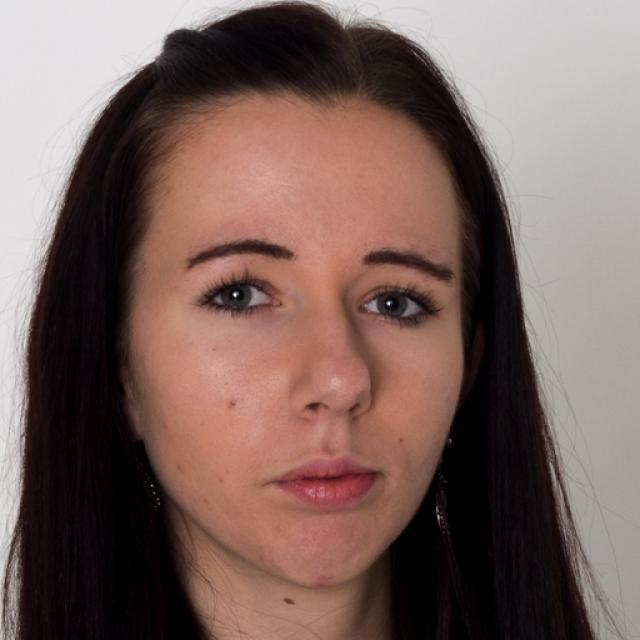neutral: (125, 99, 469, 589)
